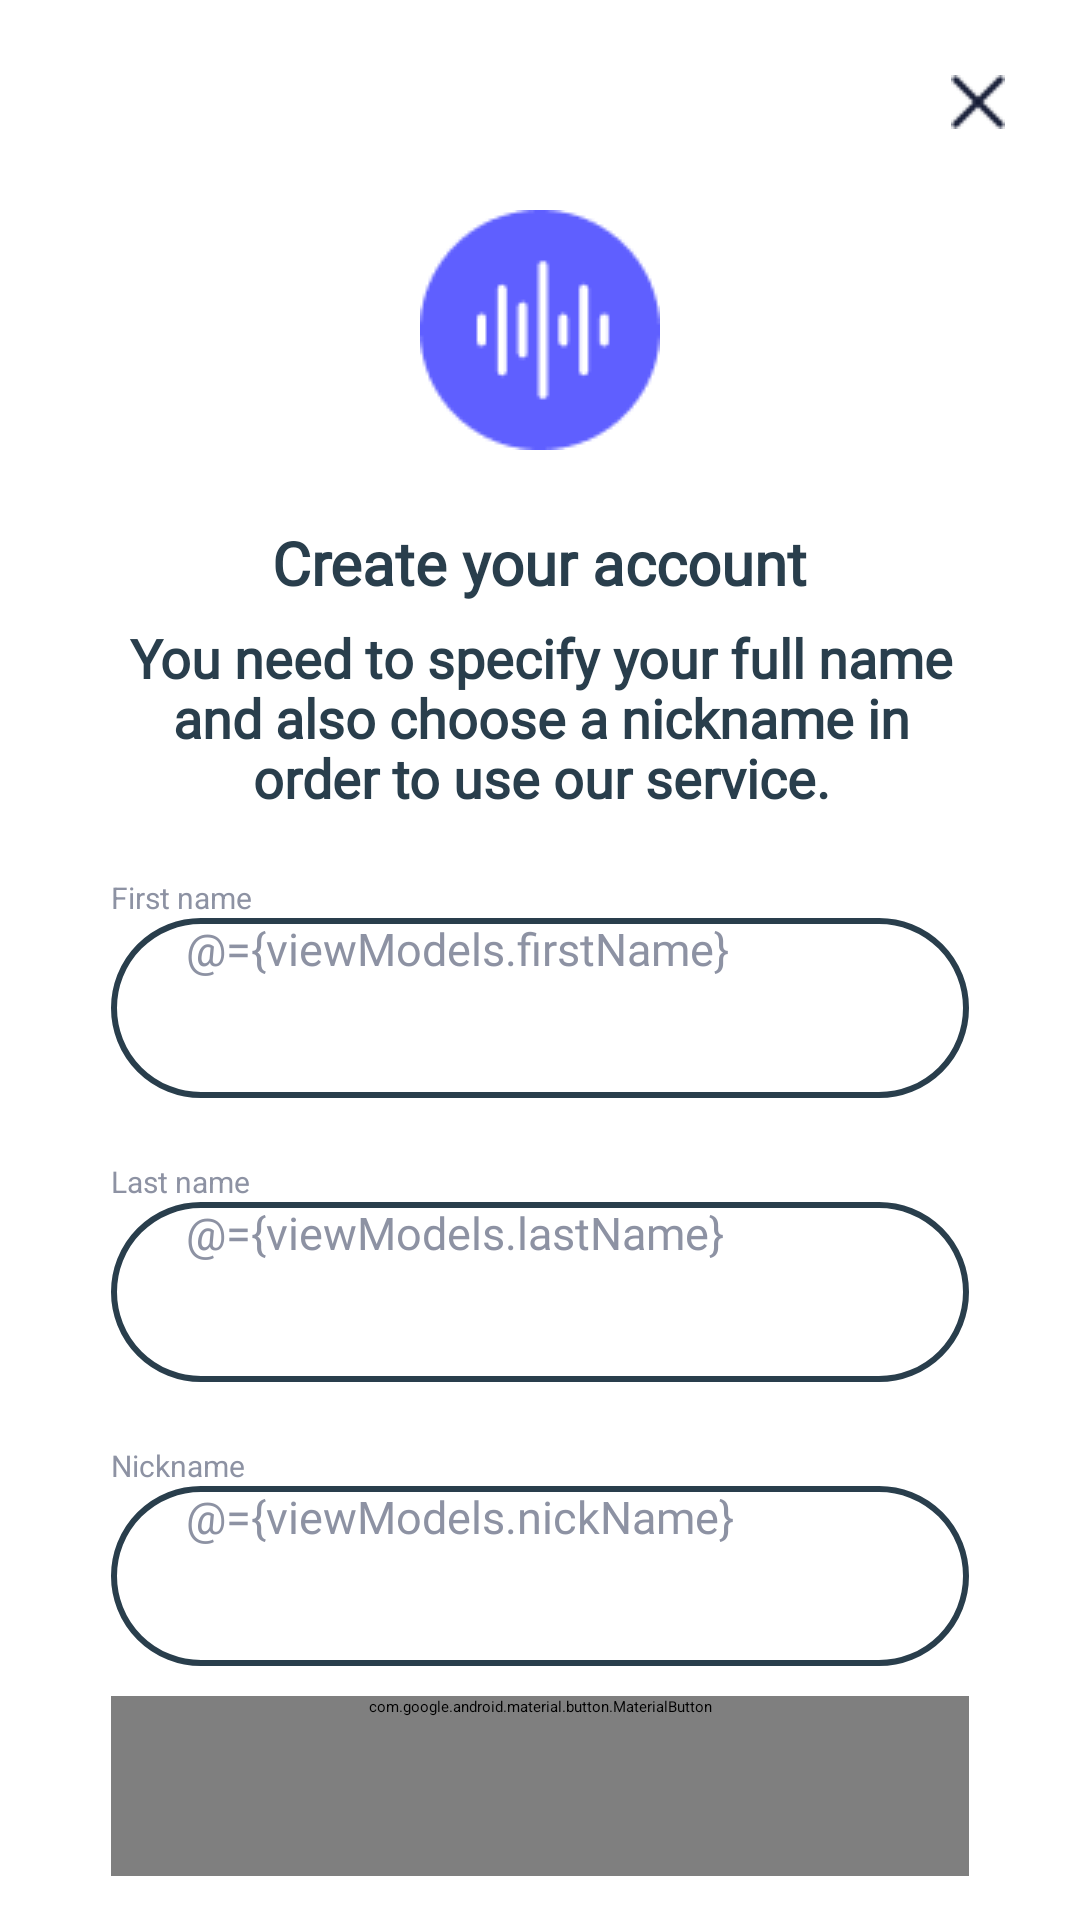

Icons on this 1080w x 1920h Android screen, each with the point to tap as (x,y):
cross: (978,102)
